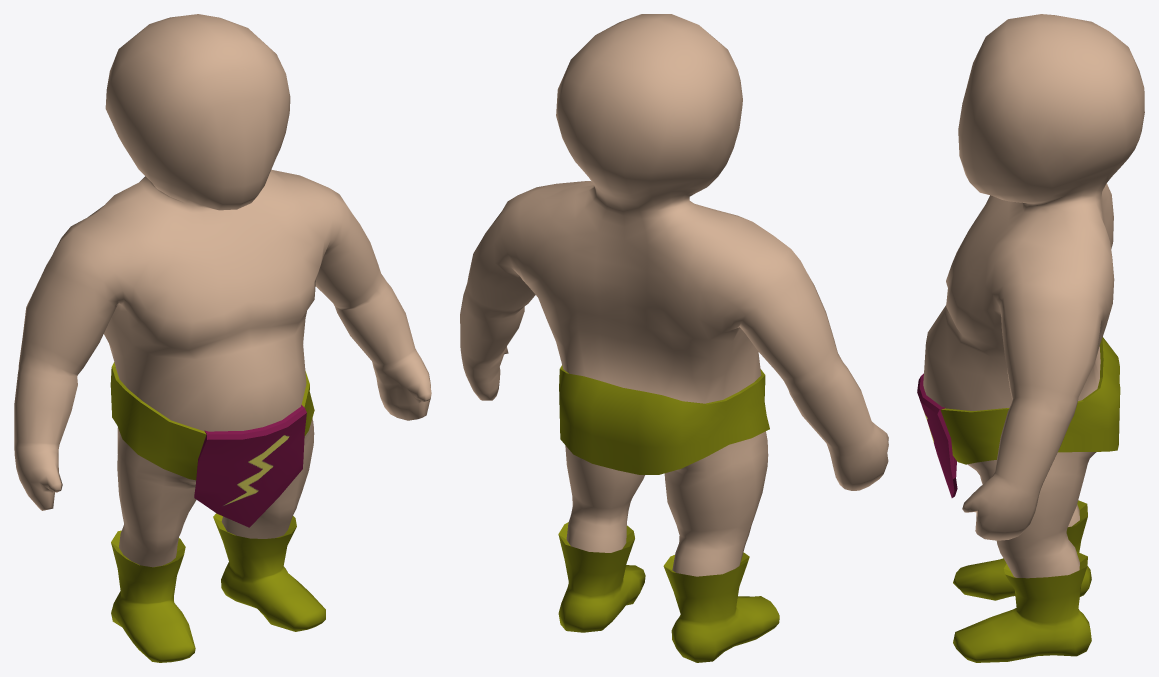
File: giant-level-1.fbx
The picture shows the model from 3 angles, left to right: view 1: azimuth 30°, elevation 25°; view 2: azimuth 150°, elevation 25°; view 3: azimuth 270°, elevation 25°; orthographic projection. The views are drawn at different scales.
Parts seen in each view (by area): view 1: giant-level-1; view 2: giant-level-1; view 3: giant-level-1.
Boxes of the visible parts, x1,y1,x2,y2 form: giant-level-1: [14, 14, 431, 662]; giant-level-1: [460, 14, 888, 662]; giant-level-1: [917, 14, 1144, 662].
Bounding box in the file's own units: 64.85 × 91.52 × 31.39.
Materials: 1 (1 with a texture image).
